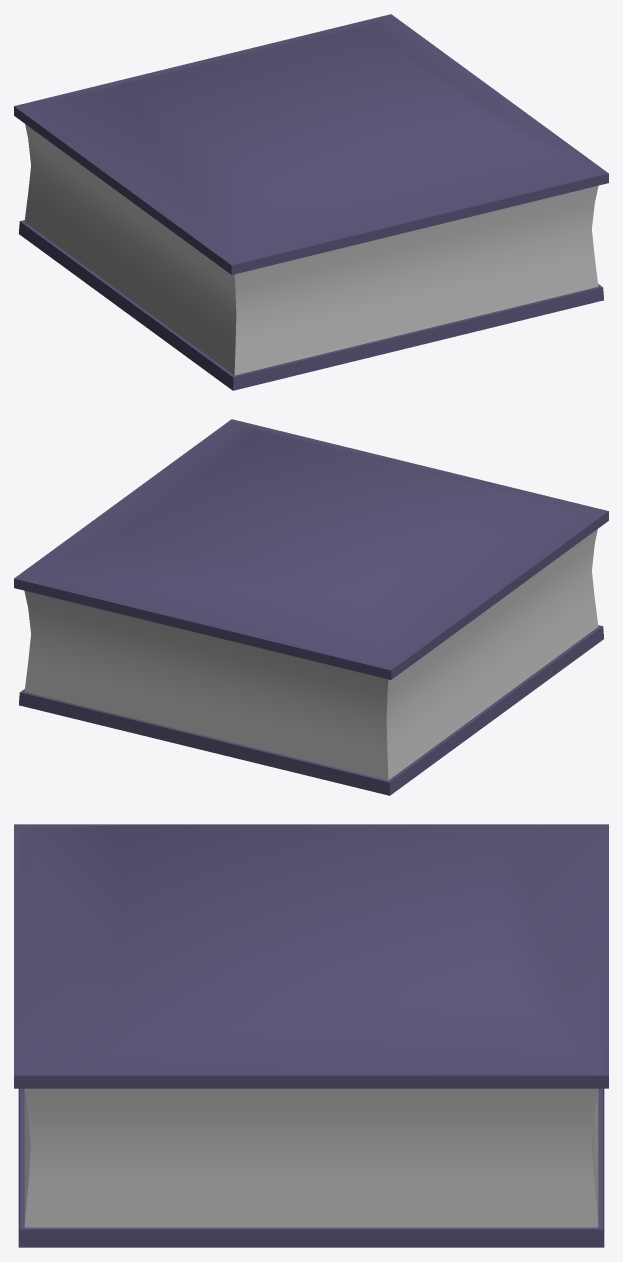
Rendered from paris_building_scaled_short_01.fbx.
3 renders of one model, top to bottom at view 1: azimuth 30°, elevation 25°; view 2: azimuth 150°, elevation 25°; view 3: azimuth 270°, elevation 25°, orthographic. The views are drawn at different scales.
Parts seen in each view (by area): view 1: Cube-convcol; view 2: Cube-convcol; view 3: Cube-convcol.
Boxes of the visible parts, x1,y1,x2,y2 form: Cube-convcol: (14, 14, 608, 390); Cube-convcol: (14, 419, 608, 795); Cube-convcol: (14, 824, 608, 1247).
Bounding box in the file's own units: 1240 × 500 × 1240.
